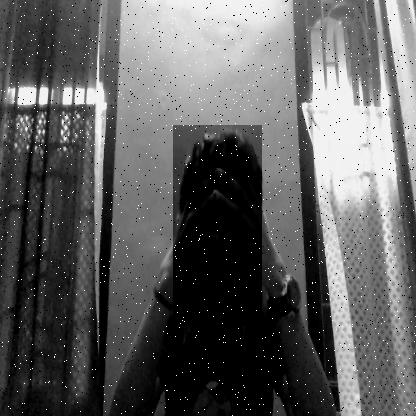Distracted: (173, 125, 262, 326)
